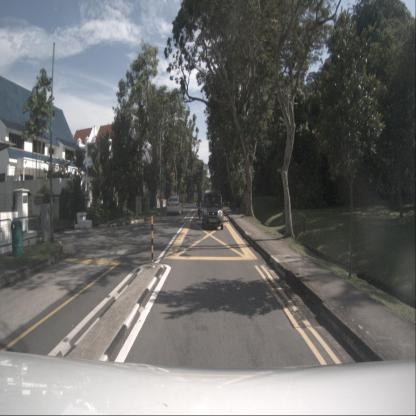human-pedestrian-adult: (252, 185, 258, 197)
vehicle-car: (202, 190, 224, 230), (166, 196, 183, 216)
vehicle-motorcycle: (195, 191, 204, 221)
